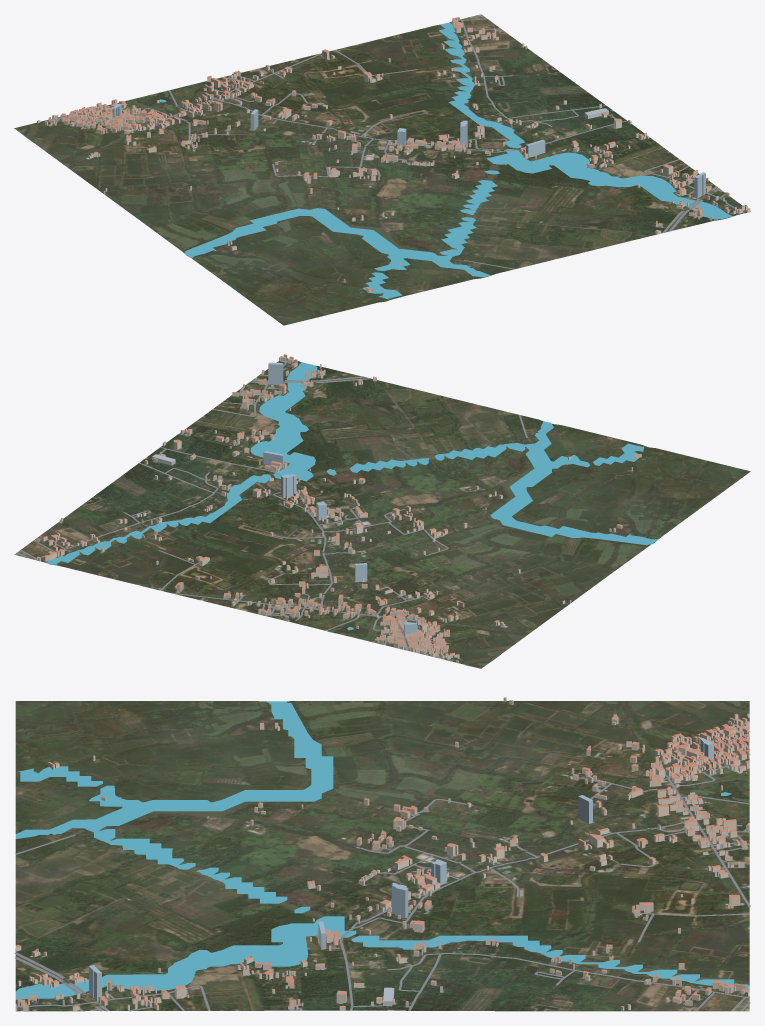
3 views of the same model, one above another, from view 1: azimuth 30°, elevation 25°; view 2: azimuth 150°, elevation 25°; view 3: azimuth 270°, elevation 25° (orthographic). The views are drawn at different scales.
Visible parts, largest first — view 1: TERRAIN, WATER, BLD_TUBE_SHOPHOUSE, BLD_INDUSTRIAL_PORT, ROAD_METRO, BLD_MODERN_TOWER; view 2: TERRAIN, WATER, BLD_TUBE_SHOPHOUSE, ROAD_METRO, BLD_INDUSTRIAL_PORT, BLD_MODERN_TOWER; view 3: TERRAIN, WATER, BLD_TUBE_SHOPHOUSE, ROAD_METRO, BLD_INDUSTRIAL_PORT, BLD_MODERN_TOWER.
Boxes of the visible parts, box(x1,y1,x2,y2) form: TERRAIN: box(14, 14, 750, 325); WATER: box(26, 22, 732, 299); BLD_TUBE_SHOPHOUSE: box(37, 18, 750, 291); BLD_INDUSTRIAL_PORT: box(50, 17, 740, 293); ROAD_METRO: box(54, 16, 744, 269); BLD_MODERN_TOWER: box(112, 103, 705, 198); TERRAIN: box(14, 358, 750, 668); WATER: box(44, 362, 658, 666); BLD_TUBE_SHOPHOUSE: box(41, 354, 637, 662); ROAD_METRO: box(16, 360, 527, 657); BLD_INDUSTRIAL_PORT: box(36, 358, 641, 657); BLD_MODERN_TOWER: box(263, 362, 416, 636); TERRAIN: box(15, 701, 749, 1011); WATER: box(15, 701, 749, 999); BLD_TUBE_SHOPHOUSE: box(15, 697, 749, 1011); ROAD_METRO: box(14, 723, 750, 1011); BLD_INDUSTRIAL_PORT: box(15, 717, 749, 1010); BLD_MODERN_TOWER: box(89, 738, 713, 1000).
Size of the model in its own units: 2003 by 87.94 by 2008.
Materials: 2 (1 with a texture image).
